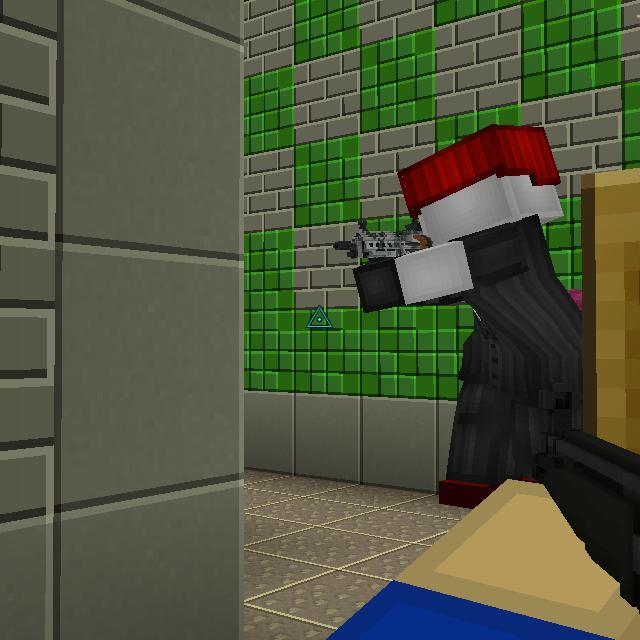enemy: (352, 123, 596, 516)
